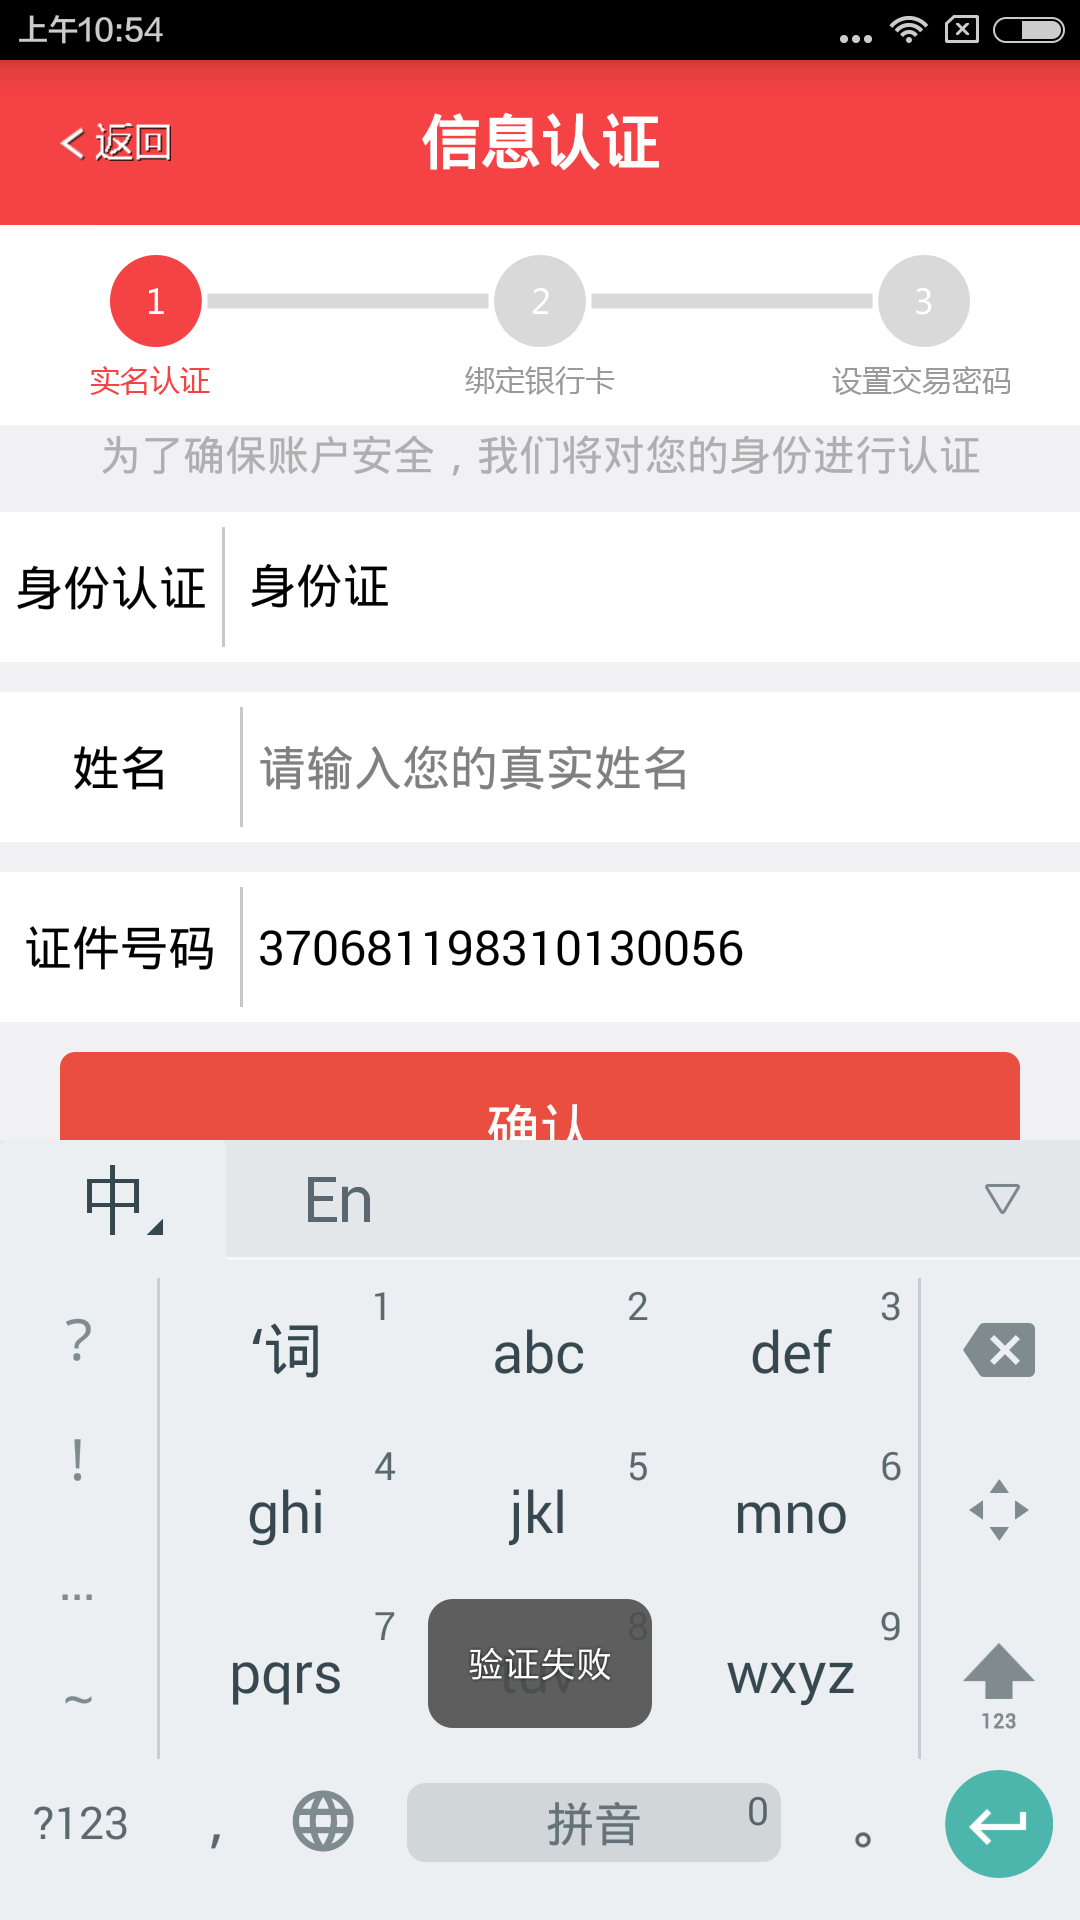textview: (4, 498, 1080, 1030)
